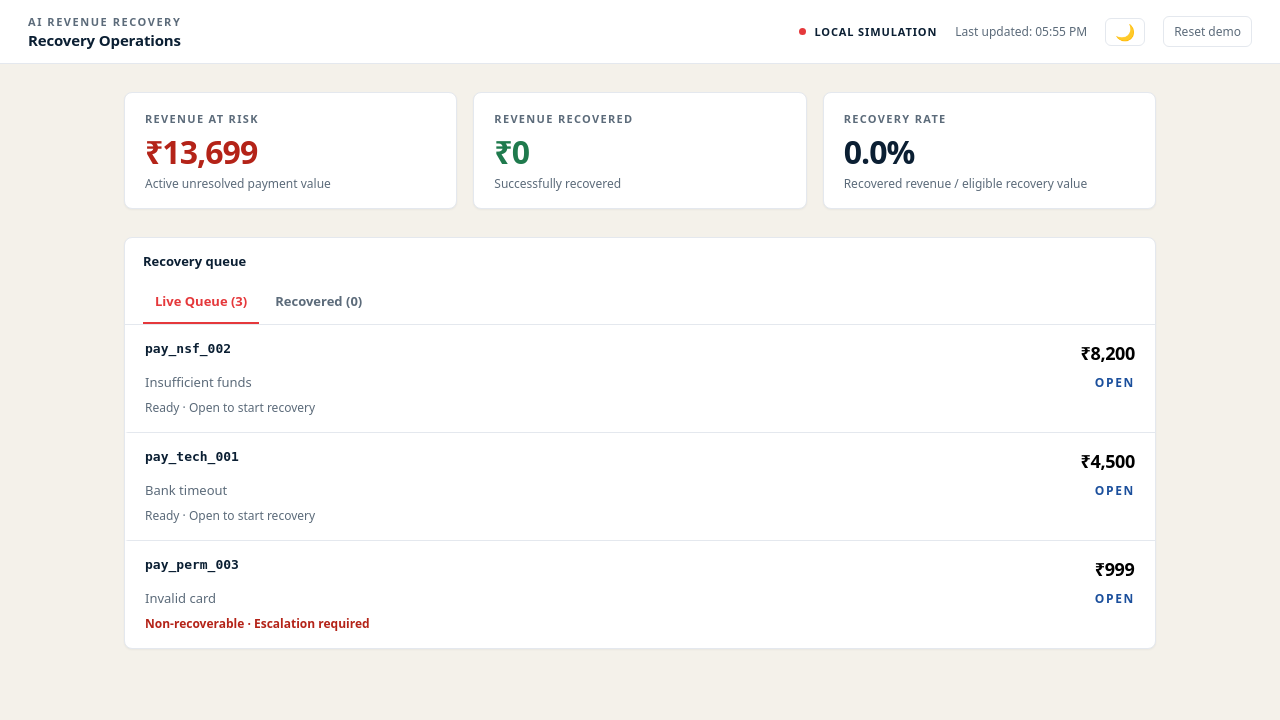
RecoveryQueuePage › shows non-recoverable notice for invalid_card case and no recovery button
Expected: the text "pay_perm_003" is shown, [145,557,239,572]
Expected: the text "Non-recoverable · Escalation required" is shown, [145,615,370,632]
Note: Open the case workspace
Click the button with aria-label "Open recovery case pay_perm_003".
click(192, 565)  # box [125,541,1155,648]
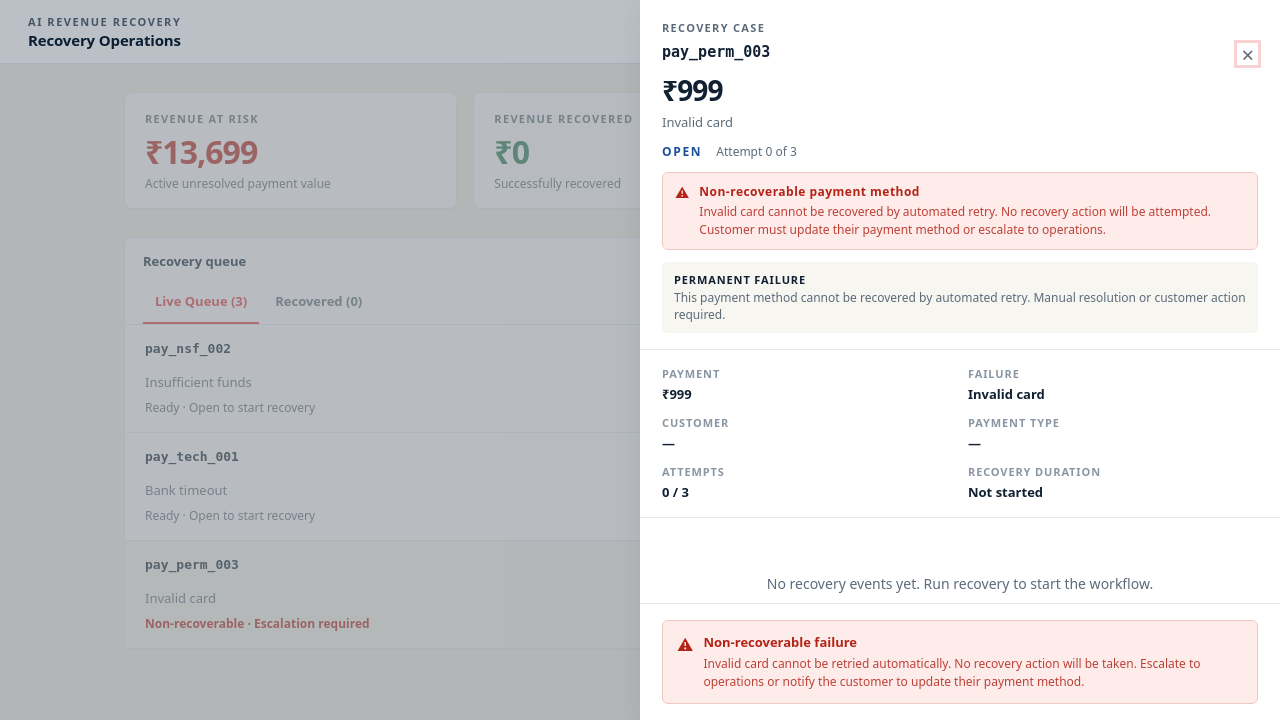
Now the text "Non-recoverable failure" is shown, box [703,633,857,651]
